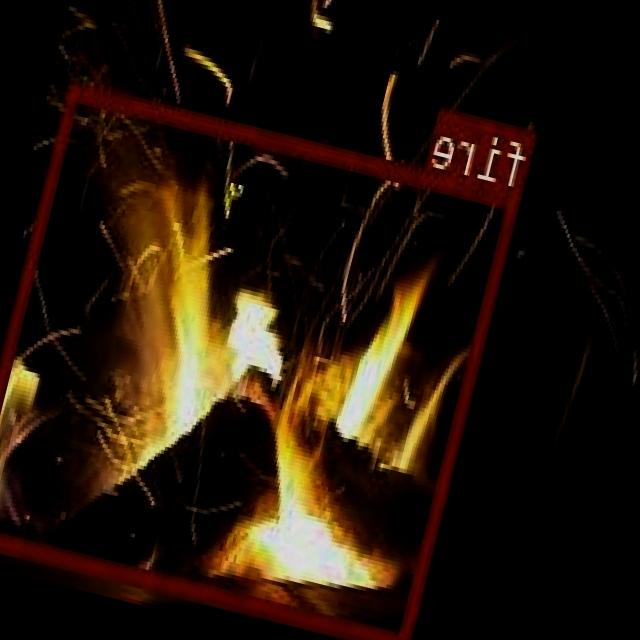fire: (0, 79, 525, 640)
